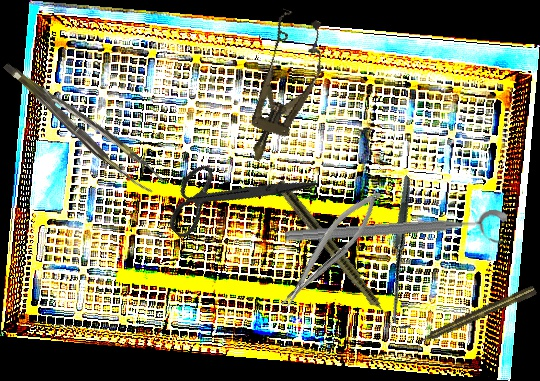Fixation Ring: (284, 209, 509, 260)
Handpiece: (272, 178, 404, 336), (414, 284, 538, 348)
Hook Surgical: (326, 175, 485, 333)
Iris Scissors: (150, 113, 320, 279)
Needle Holder: (268, 183, 392, 314)
Speculum: (228, 7, 337, 171)
Tissue Forceps: (2, 45, 165, 203)
